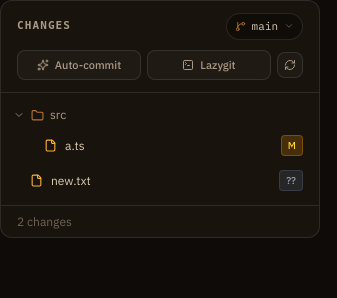
Test case: GitPanel › auto-commit without a configured key surfaces the backend error
Step 1. Click the button titled "AI auto-commit (stages all changes)" → (79, 65), box [17,50,141,80]
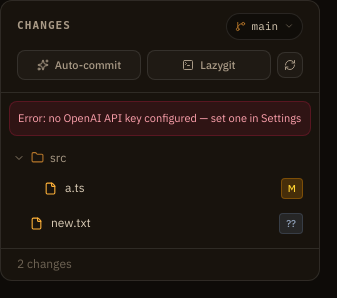
Expected: the text "Error: no OpenAI API key configured — set one in Settings" is shown, [9,101,311,136]
